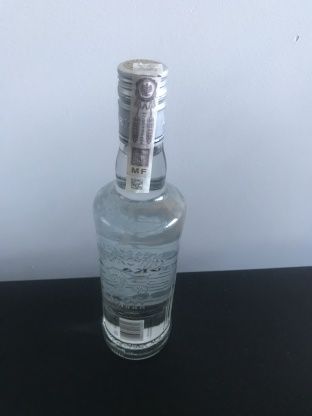nakretka: (114, 55, 170, 149)
